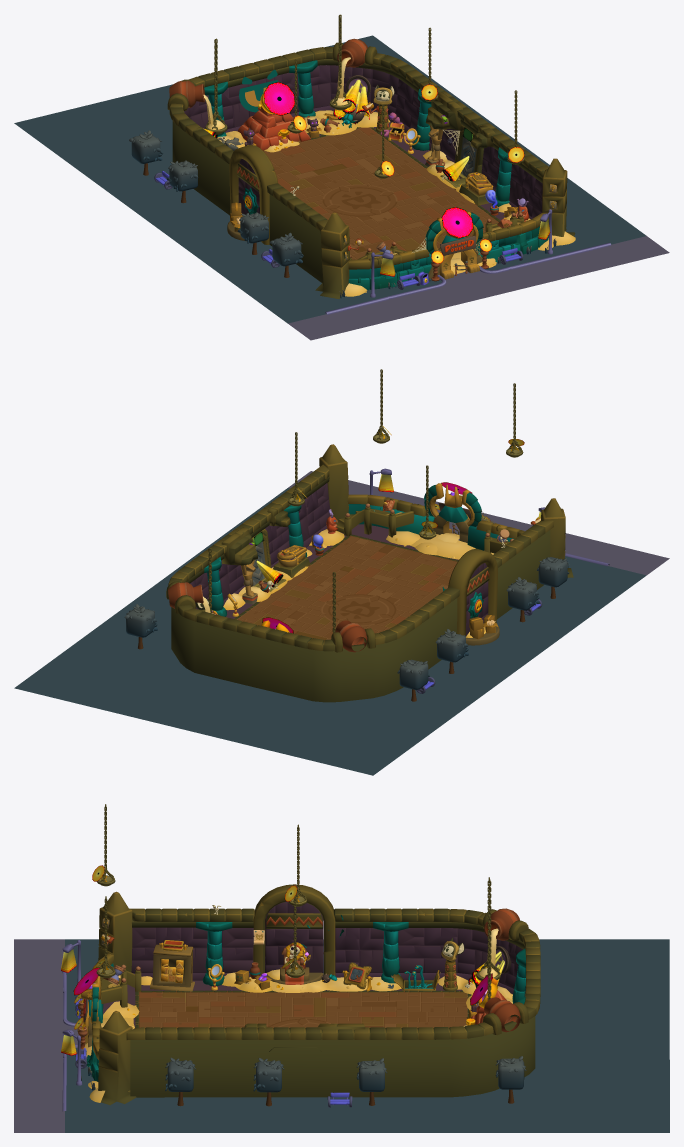
Rendered from bgr_pyramid_quest.fbx.
3 renders of one model, top to bottom at view 1: azimuth 30°, elevation 25°; view 2: azimuth 150°, elevation 25°; view 3: azimuth 270°, elevation 25°, orthographic. The views are drawn at different scales.
Visible parts, largest first — view 1: pyramidquest_ground, pyramidquest_ground_solid, pyramidquest_ground_tiles, pyramidquest_walls_line, pyramidquest_wall_top, pyramidquest_wall_front, pyramidquest_obelisk, pyramidquest_gatewall, pyramidquest_wall_right, pyramidquest_arch, pyramidquest_wall_top2, pyramidquest_pilars_003 (+23 smaller); view 2: pyramidquest_ground, pyramidquest_walls_line, pyramidquest_ground_solid, pyramidquest_ground_tiles, pyramidquest_wall_top, pyramidquest_wall_right, pyramidquest_obelisk, pyramidquest_gatewall, pyramidquest_wall_top2, pyramidquest_arch, pyramidquest_stairs, pyramidqyest_kingwall_002 (+13 smaller); view 3: pyramidquest_ground, pyramidquest_walls_line, pyramidquest_wall_top, pyramidquest_wall_left, pyramidquest_ground_solid, pyramidquest_ground_tiles, pyramidquest_obelisk, pyramidqyest_kingwall_002, pyramidquest_arch, pyramidquest_wall_front, pyramidquest_sand_001, pyramidquest_pots (+19 smaller).
Part boxes in pixels (x1=…): pyramidquest_ground: x1=14, y1=35, x2=669, y2=340; pyramidquest_ground_solid: x1=264, y1=129, x2=498, y2=259; pyramidquest_ground_tiles: x1=264, y1=127, x2=498, y2=259; pyramidquest_walls_line: x1=172, y1=59, x2=542, y2=282; pyramidquest_wall_top: x1=167, y1=42, x2=548, y2=230; pyramidquest_wall_front: x1=184, y1=65, x2=398, y2=129; pyramidquest_obelisk: x1=315, y1=158, x2=575, y2=298; pyramidquest_gatewall: x1=348, y1=213, x2=548, y2=290; pyramidquest_wall_right: x1=396, y1=79, x2=542, y2=218; pyramidquest_arch: x1=229, y1=144, x2=277, y2=244; pyramidquest_wall_top2: x1=188, y1=47, x2=333, y2=87; pyramidquest_pilars_003: x1=204, y1=60, x2=317, y2=135; pyramidquest_ground: x1=14, y1=471, x2=669, y2=775; pyramidquest_walls_line: x1=171, y1=476, x2=550, y2=702; pyramidquest_ground_solid: x1=237, y1=536, x2=457, y2=636; pyramidquest_ground_tiles: x1=237, y1=536, x2=457, y2=640; pyramidquest_wall_top: x1=166, y1=464, x2=553, y2=652; pyramidquest_wall_right: x1=190, y1=483, x2=330, y2=609; pyramidquest_obelisk: x1=319, y1=444, x2=573, y2=577; pyramidquest_gatewall: x1=347, y1=494, x2=524, y2=553; pyramidquest_wall_top2: x1=177, y1=605, x2=335, y2=651; pyramidquest_arch: x1=448, y1=548, x2=497, y2=635; pyramidquest_stairs: x1=336, y1=503, x2=513, y2=553; pyramidqyest_kingwall_002: x1=465, y1=563, x2=498, y2=639; pyramidquest_ground: x1=14, y1=939, x2=669, y2=1132; pyramidquest_walls_line: x1=130, y1=920, x2=535, y2=1097; pyramidquest_wall_top: x1=126, y1=908, x2=528, y2=1039; pyramidquest_wall_left: x1=131, y1=927, x2=457, y2=972; pyramidquest_ground_solid: x1=139, y1=992, x2=466, y2=1027; pyramidquest_ground_tiles: x1=139, y1=992, x2=467, y2=1027; pyramidquest_obelisk: x1=98, y1=891, x2=136, y2=1105; pyramidqyest_kingwall_002: x1=265, y1=901, x2=323, y2=981; pyramidquest_arch: x1=253, y1=884, x2=335, y2=979; pyramidquest_wall_front: x1=457, y1=928, x2=525, y2=995; pyramidquest_sand_001: x1=222, y1=972, x2=401, y2=992; pyramidquest_pots: x1=484, y1=908, x2=520, y2=1032.
Size of what is drawn, in the model's own units: 4597 by 2487 by 6586.
Materials: 13 (13 with a texture image).
